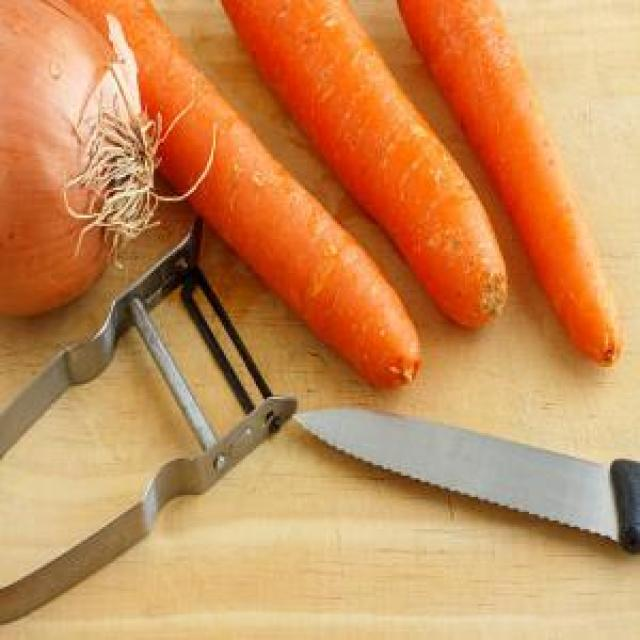knife: (288, 397, 638, 561)
